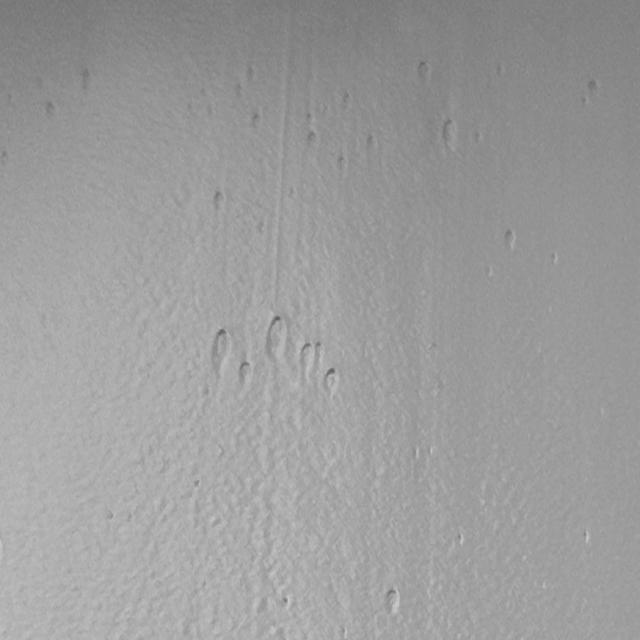pin holes: (262, 316, 288, 356), (209, 329, 232, 370), (438, 116, 460, 150), (381, 587, 403, 616), (413, 59, 435, 87), (298, 342, 318, 370), (322, 368, 341, 397), (236, 362, 254, 391), (499, 228, 519, 254), (40, 100, 60, 126), (76, 69, 96, 95), (584, 75, 604, 100), (209, 188, 227, 213), (248, 110, 264, 134), (242, 62, 259, 84), (335, 154, 350, 177), (304, 129, 320, 150), (257, 219, 271, 243), (339, 91, 354, 111), (365, 133, 380, 152), (287, 180, 298, 205), (472, 129, 487, 147), (278, 592, 292, 610), (484, 264, 496, 284), (548, 252, 560, 270), (454, 532, 466, 550), (424, 442, 437, 458), (580, 530, 592, 547)
